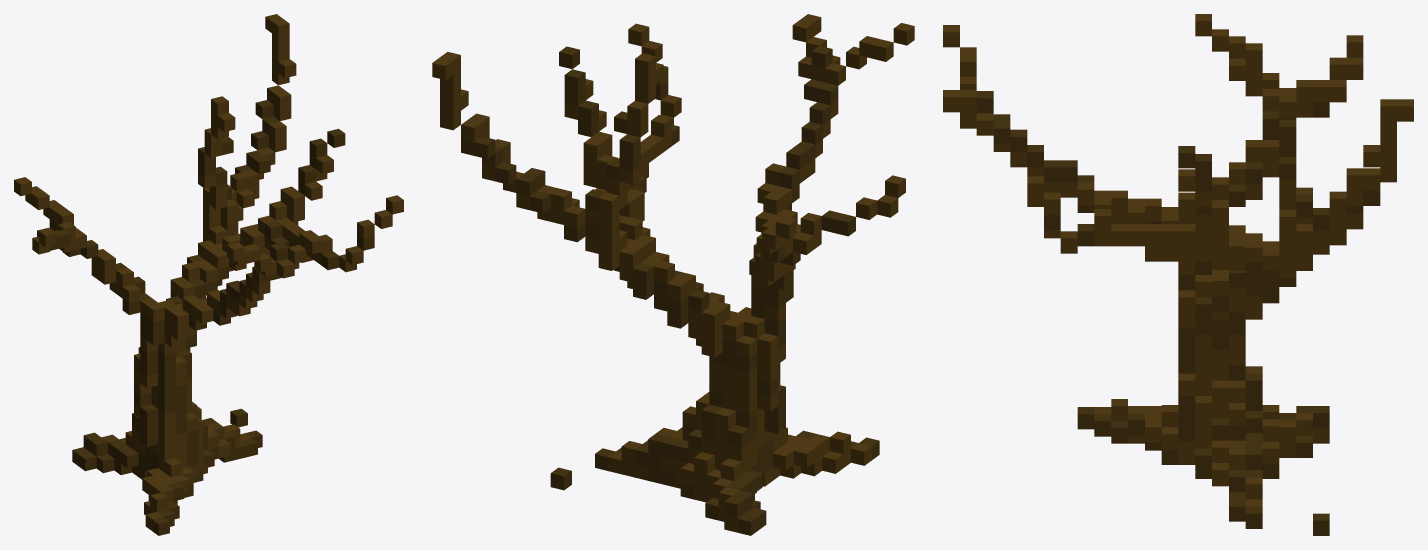
File: tree5.obj
The picture shows the model from 3 angles, left to right: view 1: azimuth 30°, elevation 25°; view 2: azimuth 150°, elevation 25°; view 3: azimuth 270°, elevation 25°; orthographic projection. The views are drawn at different scales.
Parts seen in each view (by area): view 1: Voxelized_tree5; view 2: Voxelized_tree5; view 3: Voxelized_tree5.
Part boxes in pixels (bbox=[...]): Voxelized_tree5: bbox=[14, 14, 403, 535]; Voxelized_tree5: bbox=[432, 14, 914, 535]; Voxelized_tree5: bbox=[943, 14, 1413, 535].
Bounding box in the file's own units: 28 × 31 × 28.
